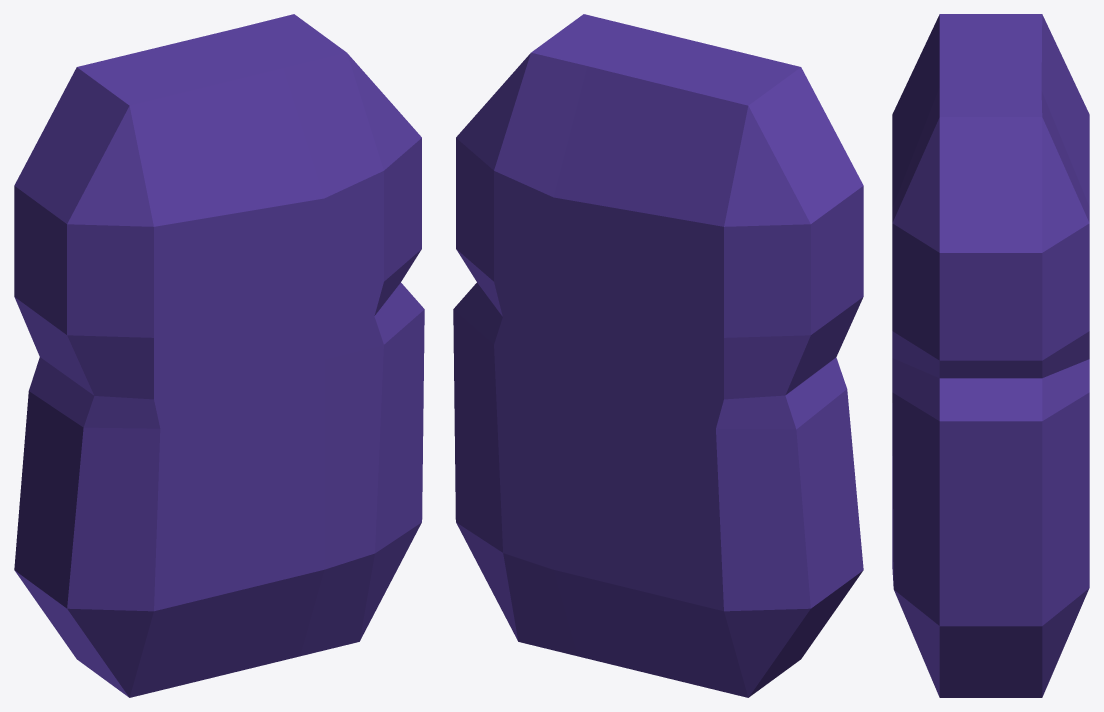
Rendered from quaternius-rpg-items-crystal-1-damaged.glb.
The picture shows the model from 3 angles, left to right: view 1: azimuth 30°, elevation 25°; view 2: azimuth 150°, elevation 25°; view 3: azimuth 270°, elevation 25°; orthographic projection. The views are drawn at different scales.
Parts seen in each view (by area): view 1: Crystal1_Damaged; view 2: Crystal1_Damaged; view 3: Crystal1_Damaged.
Part boxes in pixels (box(x1,y1,x2,y2)): Crystal1_Damaged: box(14, 14, 424, 697); Crystal1_Damaged: box(453, 14, 863, 697); Crystal1_Damaged: box(892, 14, 1089, 697).
Size of the model in its own units: 0.4875 by 0.7716 by 0.2397.
